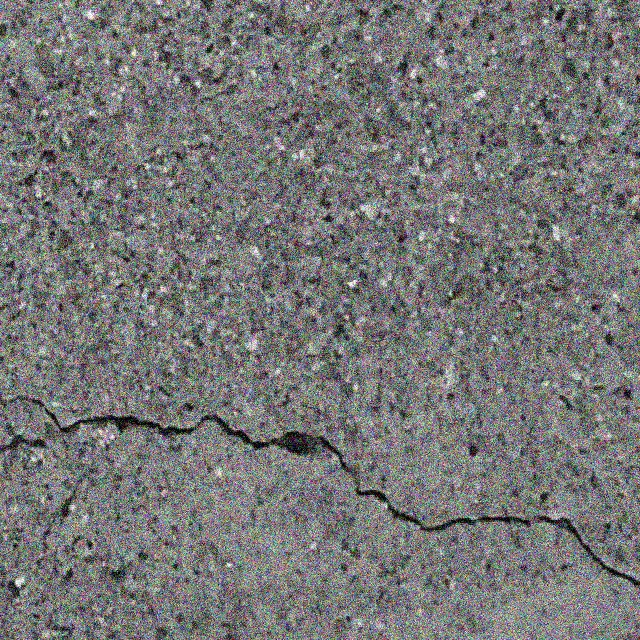SurfaceCrack: (1, 377, 640, 620)
